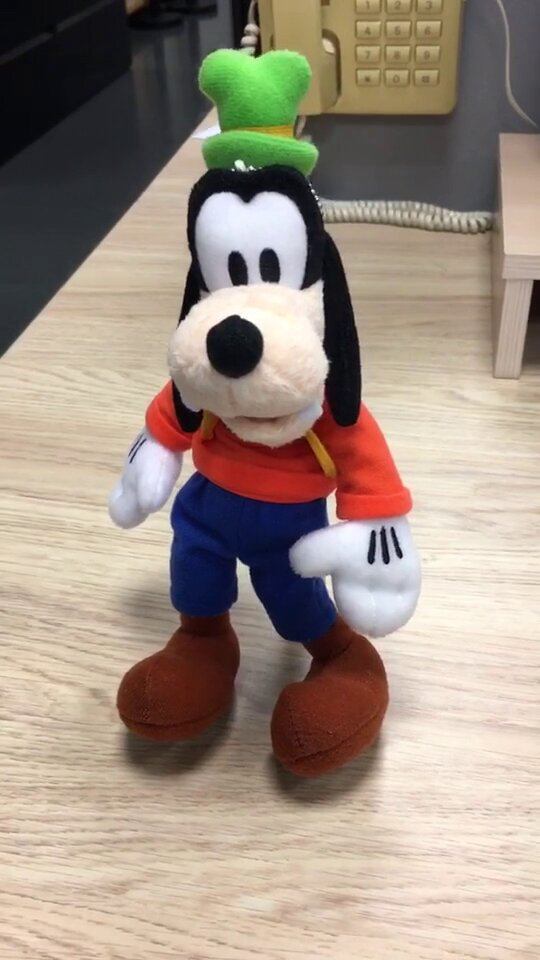goofy: (105, 46, 427, 777)
